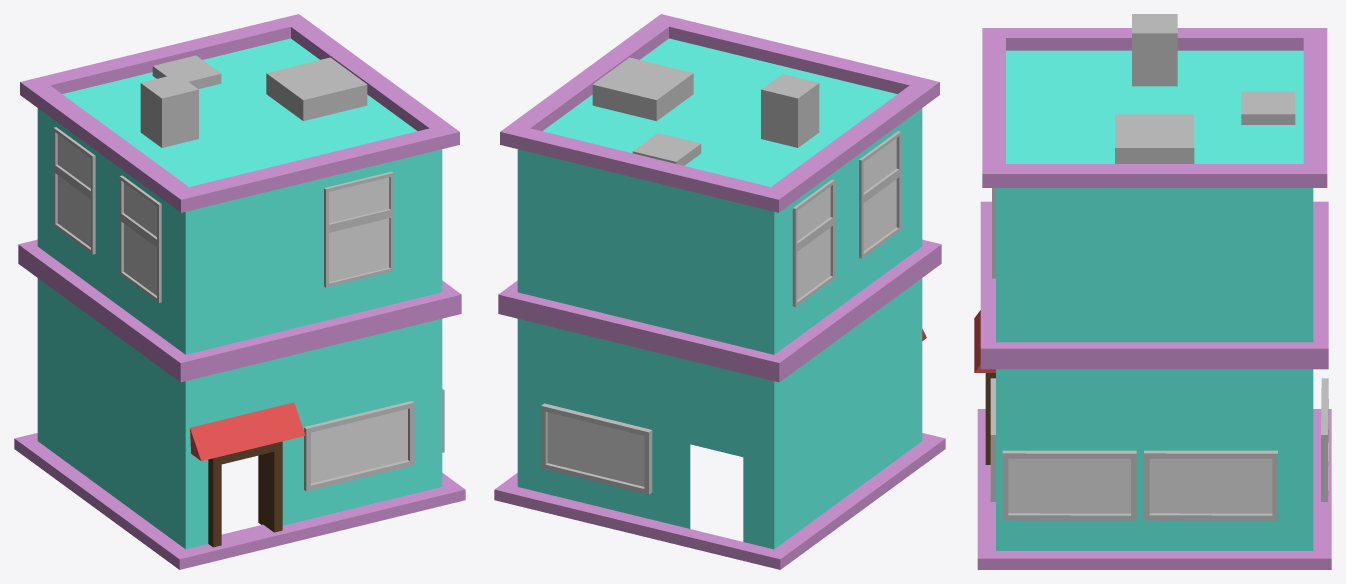
Rendered from HOUSE_V3 (2).fbx.
3 renders of one model, left to right at view 1: azimuth 30°, elevation 25°; view 2: azimuth 150°, elevation 25°; view 3: azimuth 270°, elevation 25°, orthographic. The views are drawn at different scales.
Visible parts, largest first — view 1: Cube; view 2: Cube; view 3: Cube.
Part boxes in pixels (box(x1,y1,x2,y2)): Cube: box(14, 14, 465, 569); Cube: box(494, 14, 945, 569); Cube: box(974, 14, 1331, 569).
Bounding box in the file's own units: 463 × 628 × 468.
